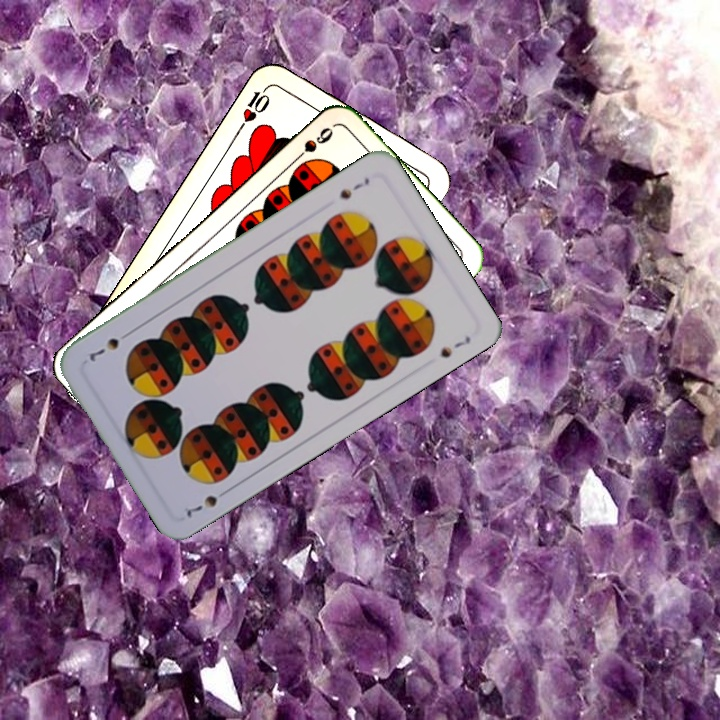H10: (234, 81, 273, 133)
S7: (182, 484, 233, 520), (335, 173, 372, 202)
S9: (287, 123, 336, 167)
